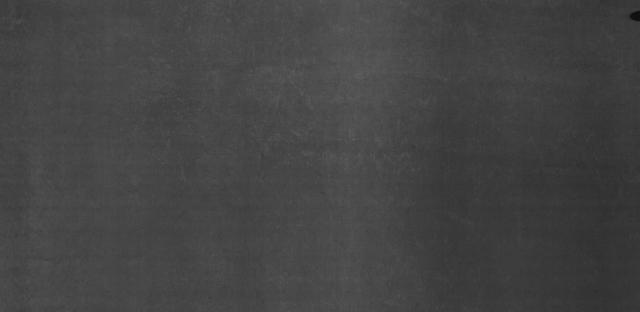punching_hole: (626, 8, 640, 22)
